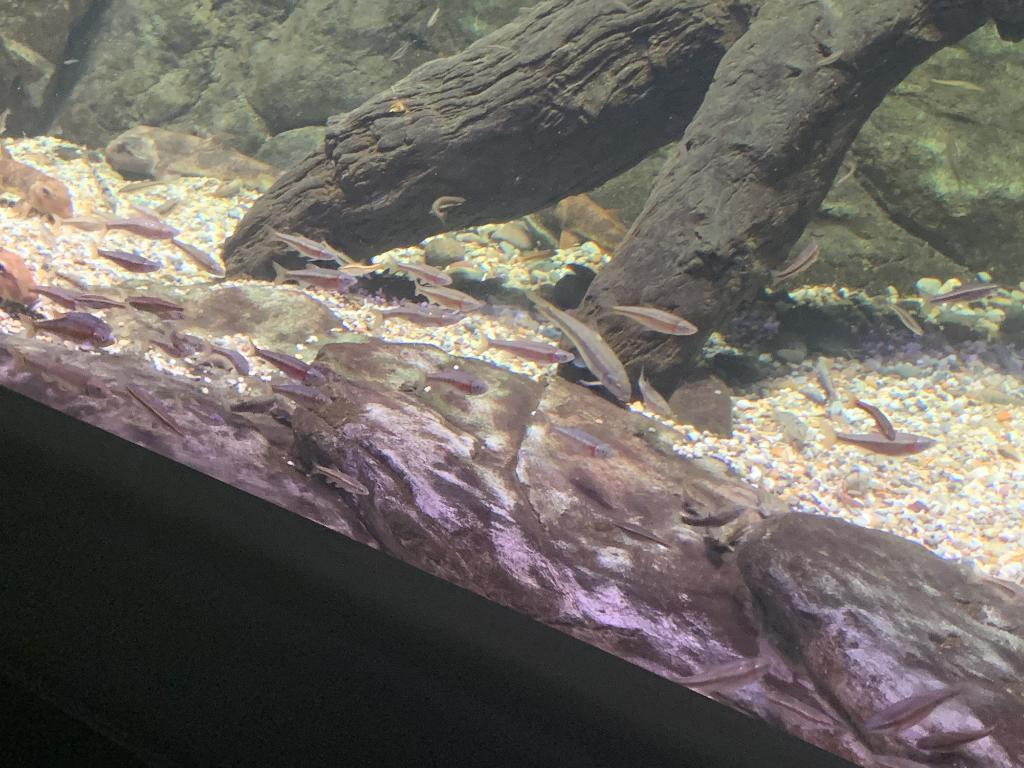fish: (522, 284, 632, 404), (861, 678, 973, 738), (749, 680, 847, 738), (0, 145, 73, 219), (670, 651, 774, 699), (2, 347, 90, 399), (827, 419, 937, 459), (475, 326, 575, 370), (604, 292, 698, 338), (246, 334, 326, 386), (126, 380, 188, 442), (24, 310, 114, 352), (540, 412, 614, 460), (264, 222, 344, 266), (98, 203, 182, 243), (370, 302, 464, 334), (270, 259, 358, 293), (768, 232, 824, 284), (308, 458, 372, 500), (913, 724, 997, 756), (412, 278, 484, 314), (414, 363, 490, 397), (925, 278, 999, 312), (610, 516, 676, 554), (0, 246, 40, 306), (568, 470, 622, 514), (166, 236, 224, 276), (265, 376, 333, 410), (674, 500, 750, 530), (390, 252, 452, 288), (92, 242, 160, 274), (850, 394, 896, 440), (638, 367, 676, 419), (886, 298, 930, 340), (206, 338, 252, 378), (28, 281, 82, 311), (750, 476, 780, 518), (50, 210, 102, 234), (72, 290, 128, 312), (428, 195, 466, 226), (125, 293, 183, 313), (146, 335, 184, 361), (337, 258, 385, 276), (519, 249, 557, 262)
